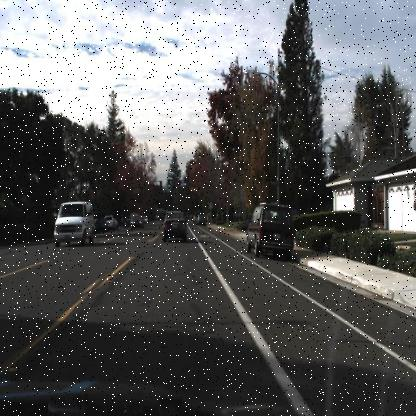car: (244, 203, 298, 258), (52, 199, 96, 248), (160, 207, 190, 244), (128, 212, 146, 230), (101, 212, 117, 232), (94, 219, 108, 235), (195, 211, 207, 227)
trafficLight-Green: (166, 178, 172, 192), (182, 176, 187, 190), (166, 178, 171, 189), (182, 178, 187, 188)
